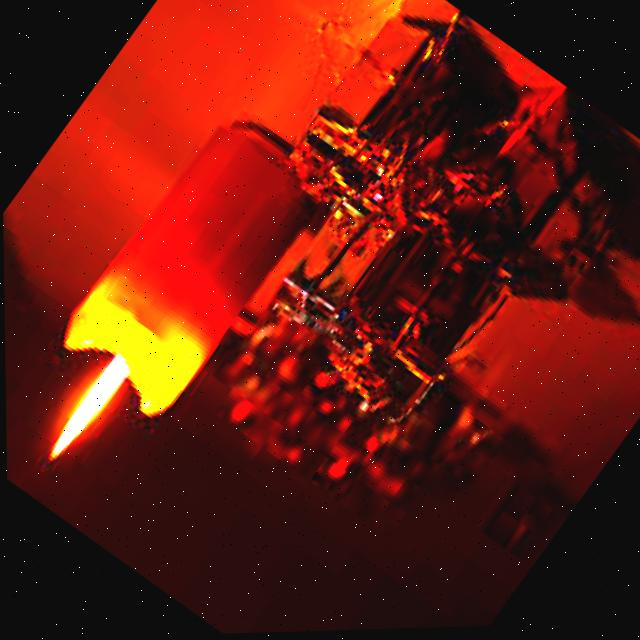Fire: (31, 339, 150, 478)
